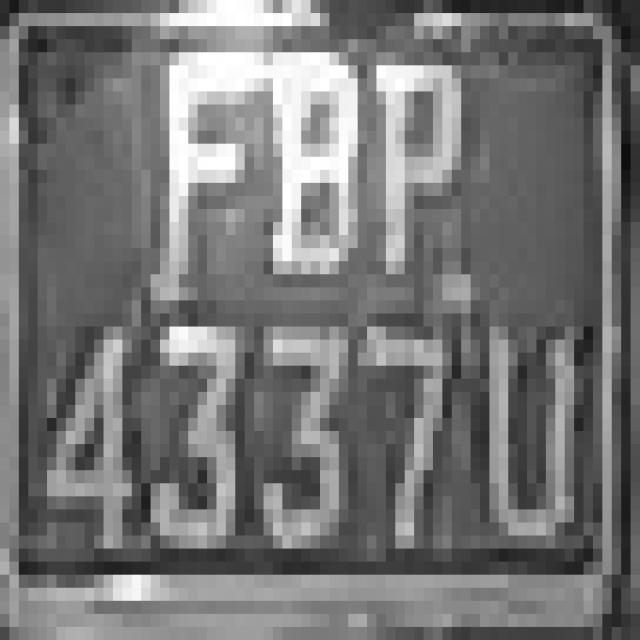3: (132, 274, 254, 588), (264, 287, 358, 548)
4: (19, 287, 141, 575)
7: (301, 274, 452, 575)
B: (245, 52, 358, 392)
F: (132, 13, 254, 327)
P: (367, 13, 489, 340)
U: (442, 313, 593, 601)
